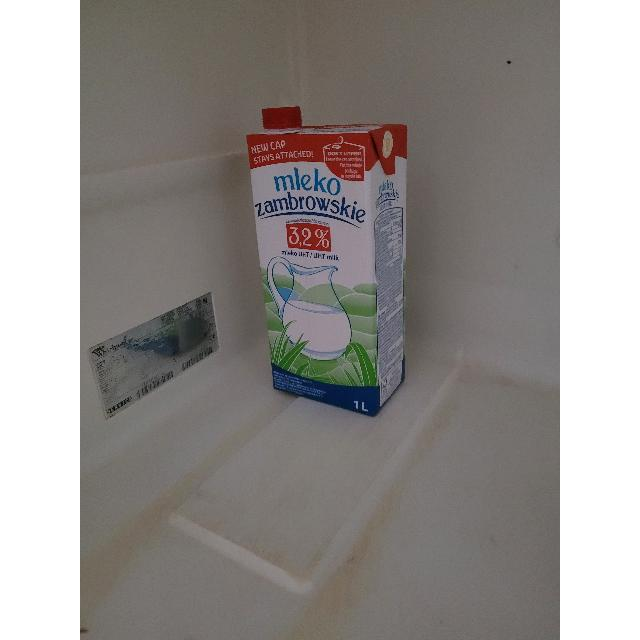milk: (246, 115, 409, 412)
